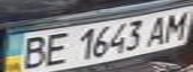1: (75, 25, 96, 61)
3: (124, 17, 151, 52)
4: (109, 20, 130, 55)
6: (90, 22, 115, 58)
A: (145, 12, 172, 47)
B: (12, 34, 51, 71)
E: (36, 29, 72, 68)
M: (160, 8, 190, 43)
